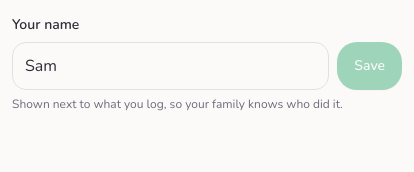
it: OwnNameField › saves the trimmed name and confirms
Replace the text in the field showing "Sam" with " Samantha ": {"x": 171, "y": 66} top-left (12, 42), bottom-right (329, 90)
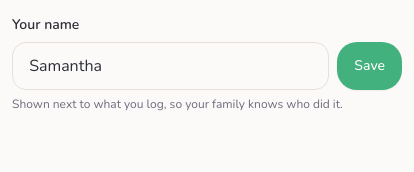
Click the button "Save": {"x": 370, "y": 66} top-left (337, 42), bottom-right (402, 90)
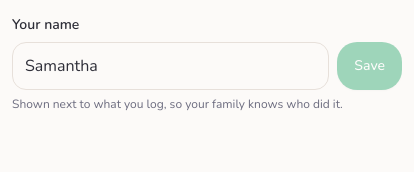
Expected: the button "Save" is disabled, top-left (337, 42), bottom-right (402, 90)
